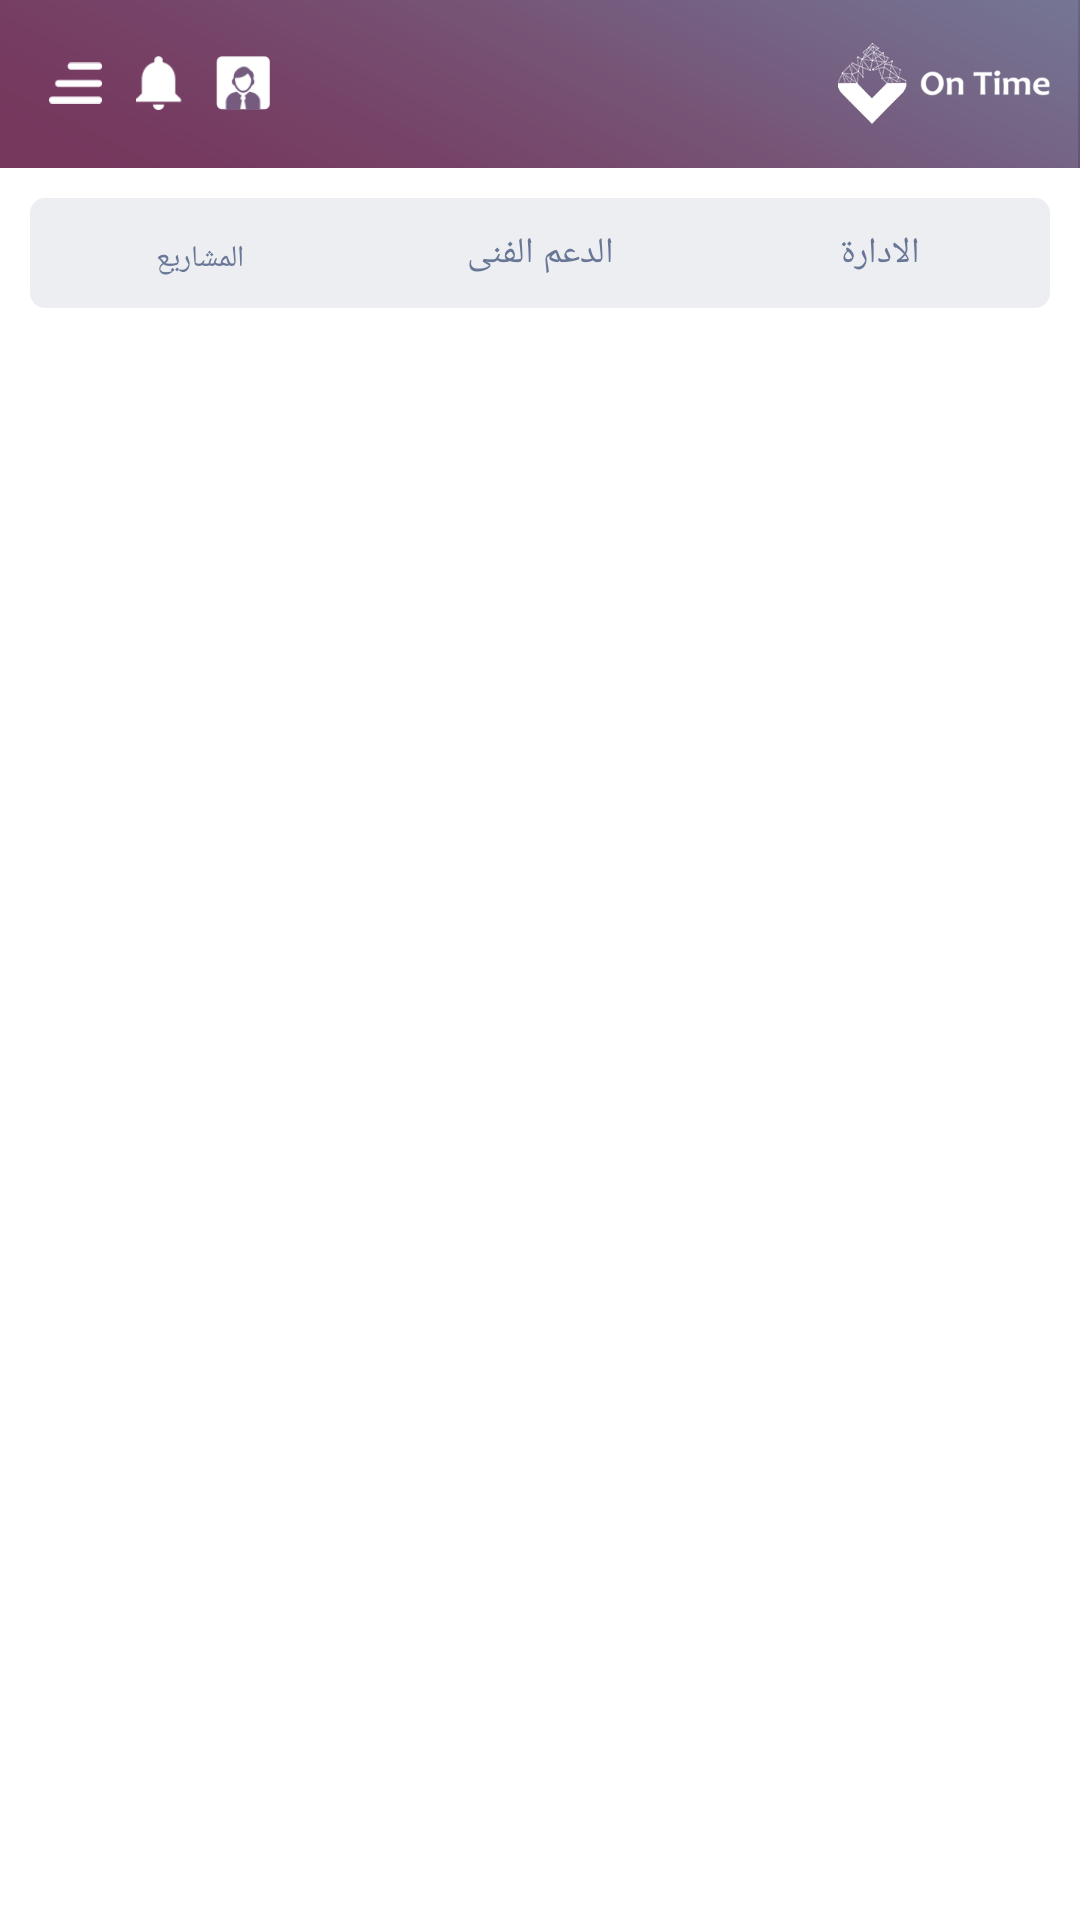

Point at icon controls on the screen. Image size 1080w x 1920h, points as [x,y].
menu: [75,83]
user: [243,83]
